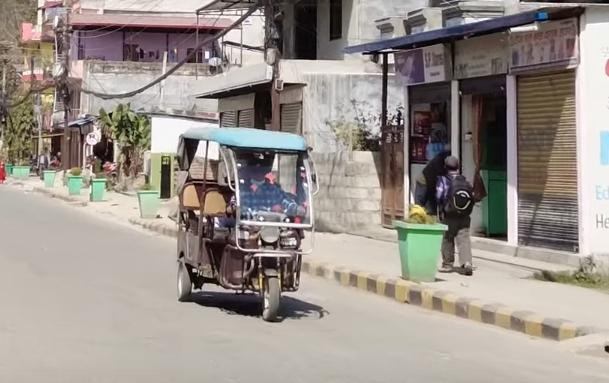e-rickshaw: (170, 115, 325, 323)
